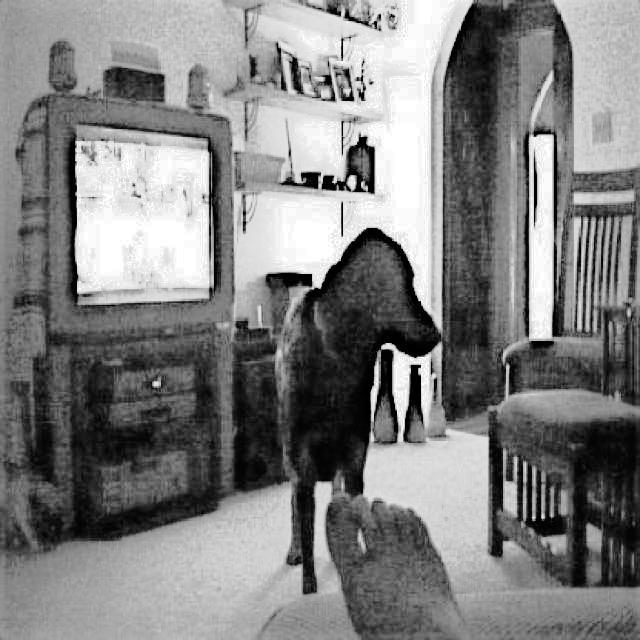Dog: (275, 226, 449, 603)
